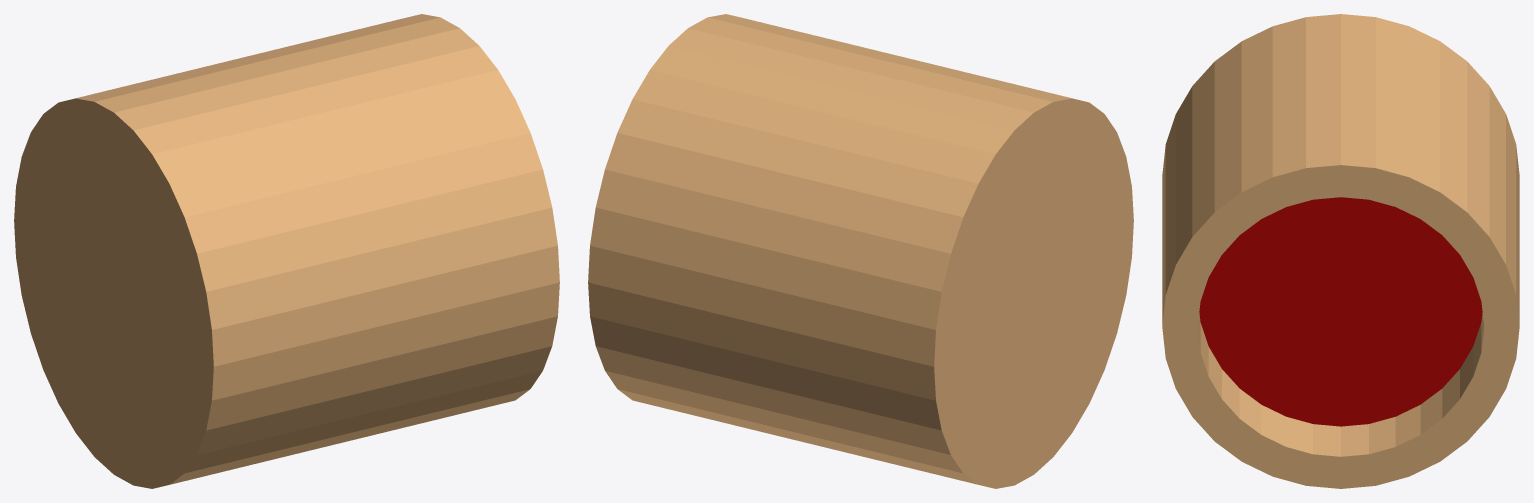
File: Button_Pressed.fbx
3 views of the same model, side by side, from view 1: azimuth 30°, elevation 25°; view 2: azimuth 150°, elevation 25°; view 3: azimuth 270°, elevation 25° (orthographic). The views are drawn at different scales.
Visible parts, largest first — view 1: Cylinder.001; view 2: Cylinder.001; view 3: Cylinder.001.
Part boxes in pixels (<box>): Cylinder.001: <box>14,14,559,488</box>; Cylinder.001: <box>588,14,1133,488</box>; Cylinder.001: <box>1162,14,1519,488</box>.
Size of the model in its own units: 55.2 by 55.2 by 55.2.
